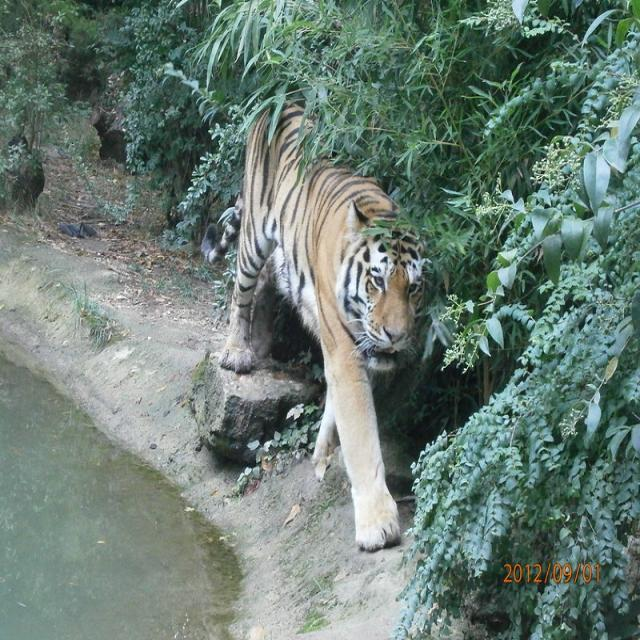Tiger: (215, 91, 438, 554)
